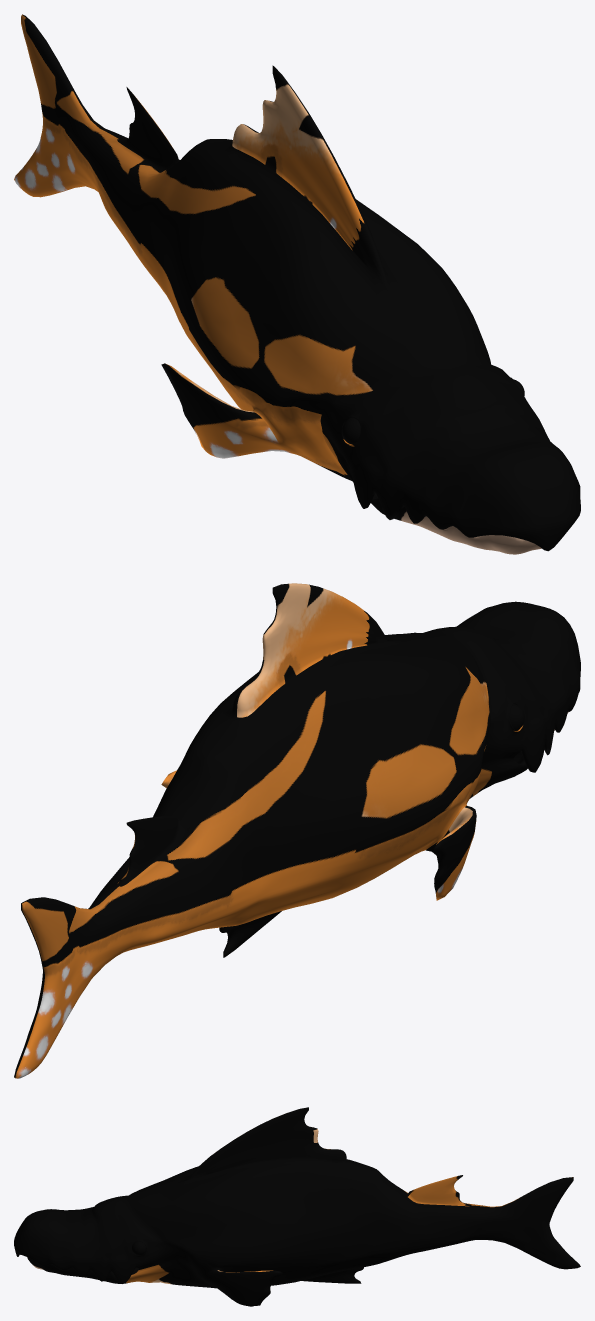
File: Blunt.fbx
3 views of the same model, one above another, from view 1: azimuth 30°, elevation 25°; view 2: azimuth 150°, elevation 25°; view 3: azimuth 270°, elevation 25° (orthographic). The views are drawn at different scales.
Visible parts, largest first — view 1: Bluntmaw; view 2: Bluntmaw; view 3: Bluntmaw.
Part boxes in pixels (x1,y1,x2,y2): Bluntmaw: [14, 14, 580, 554]; Bluntmaw: [14, 583, 580, 1078]; Bluntmaw: [14, 1107, 580, 1306].
Size of the model in its own units: 88.58 by 104 by 302.
